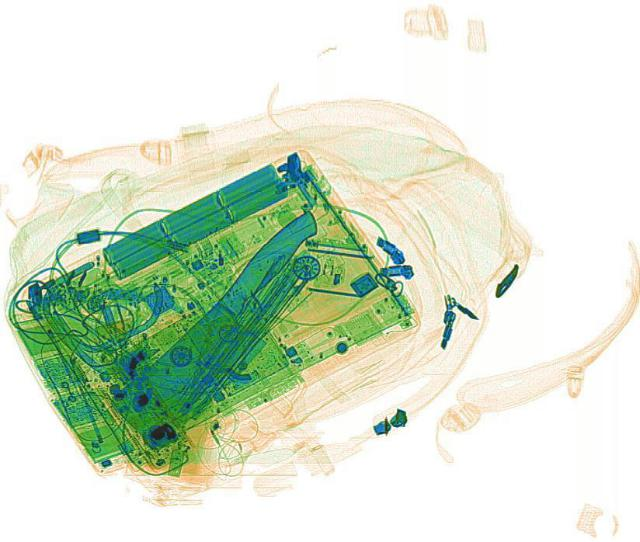Knife: (102, 202, 368, 445)
